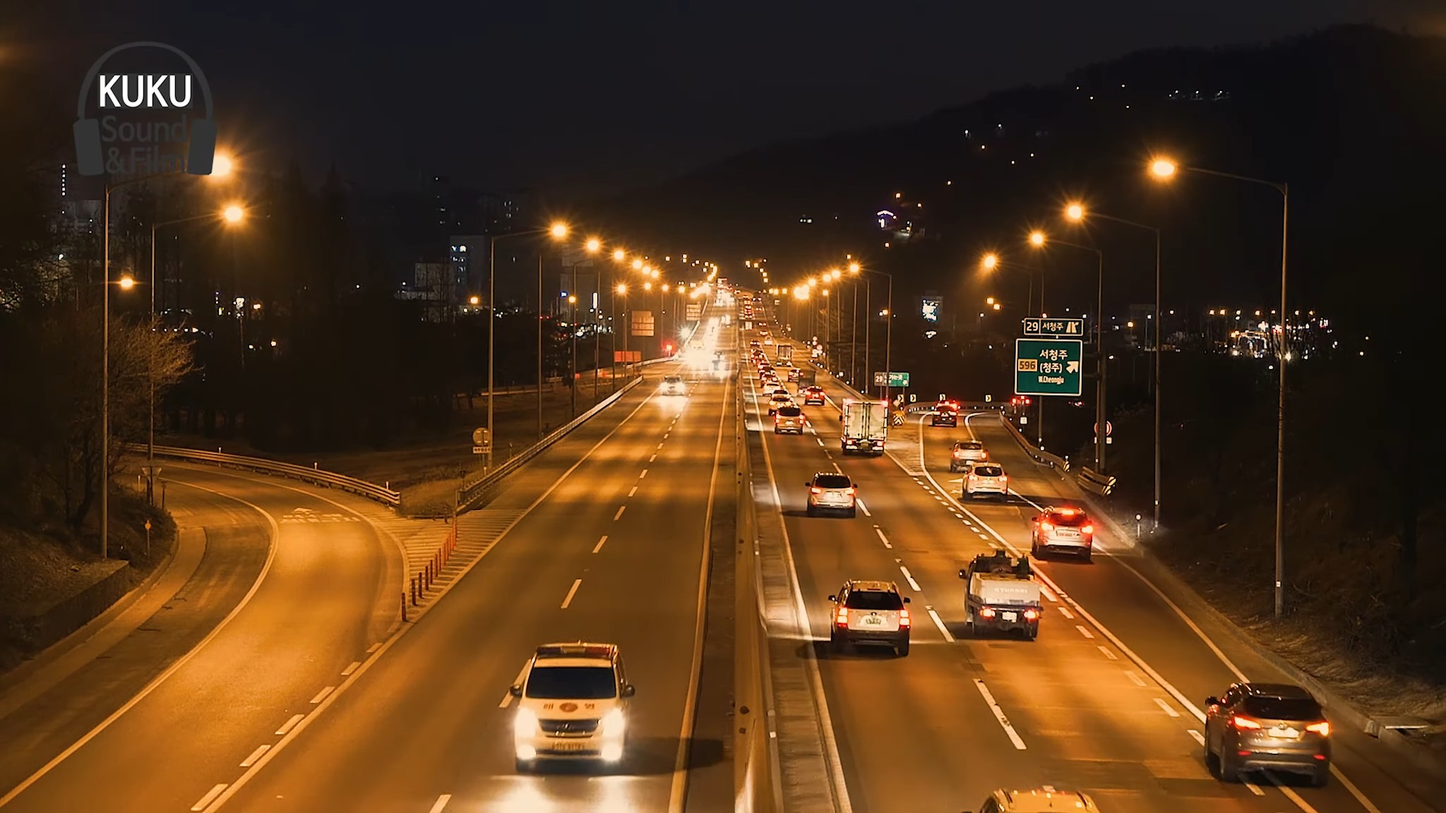car: (509, 639, 633, 779), (1204, 687, 1335, 782), (828, 574, 919, 663), (1028, 498, 1096, 569), (805, 471, 862, 518), (964, 463, 1008, 507)
truck: (962, 556, 1045, 636)
